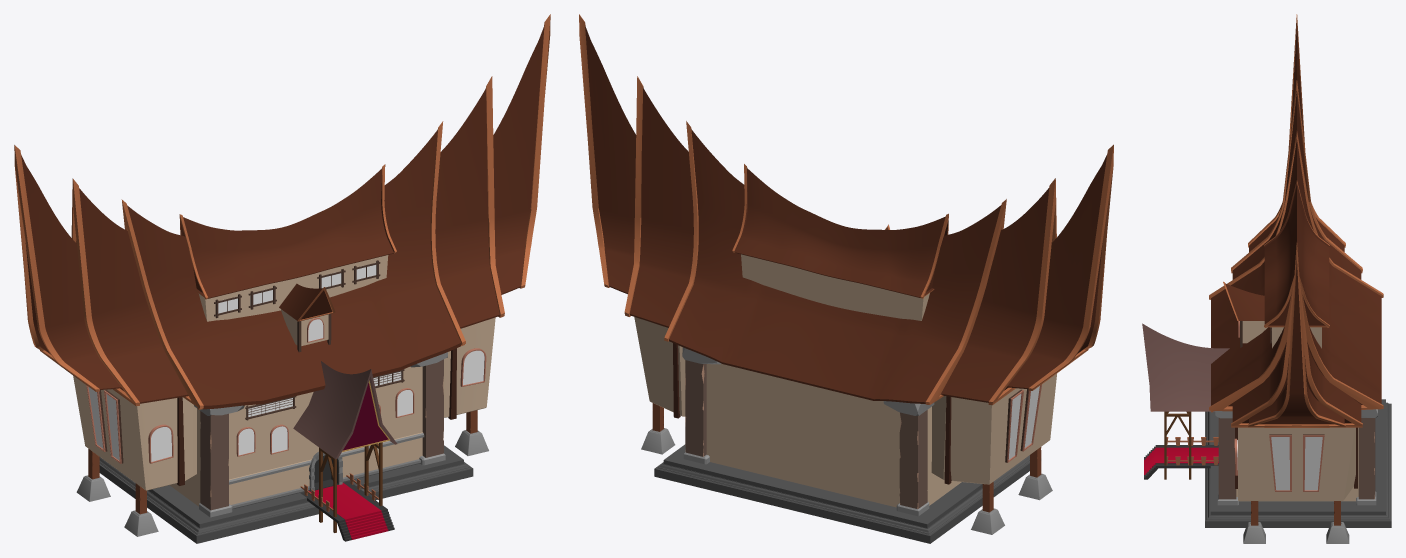
File: gadang.glb
3 views of the same model, side by side, from view 1: azimuth 30°, elevation 25°; view 2: azimuth 150°, elevation 25°; view 3: azimuth 270°, elevation 25° (orthographic). The views are drawn at different scales.
Parts seen in each view (by area): view 1: Cube.007_5, Cube.008_6, Cube.021_22, Cube.009_8, Cube_0, Cube.010_9, Cube.031_32, Cube.004_3, Cube.014_13, Cube.005_7, Cube.029_44, Cube.028_30 (+14 smaller); view 2: Cube.007_5, Cube.008_6, Cube_0, Cube.021_22, Cube.009_8, Cube.010_9, Cube.031_32, Cube.005_7, Cube.004_3, Cube.028_30, Cube.044_43, Cube.030_31 (+3 smaller); view 3: Cube.007_5, Cube.031_32, Cube.008_6, Cube.010_9, Cube.009_8, Cube.021_22, Cube.014_13, Cube.004_3, Cube.044_43, Cube.029_44, Cube.012_11, Cube.028_30 (+8 smaller).
Part boxes in pixels (left/top/right/bottom): Cube.007_5: left=121, top=121, right=465, bottom=409; Cube.008_6: left=71, top=76, right=504, bottom=406; Cube.021_22: left=14, top=14, right=550, bottom=391; Cube.009_8: left=179, top=164, right=396, bottom=299; Cube_0: left=170, top=366, right=424, bottom=509; Cube.010_9: left=73, top=317, right=495, bottom=490; Cube.031_32: left=99, top=445, right=473, bottom=543; Cube.004_3: left=200, top=359, right=443, bottom=510; Cube.014_13: left=293, top=361, right=397, bottom=459; Cube.005_7: left=198, top=255, right=388, bottom=321; Cube.029_44: left=309, top=483, right=388, bottom=539; Cube.028_30: left=76, top=430, right=488, bottom=536; Cube.007_5: left=664, top=121, right=1006, bottom=404; Cube.008_6: left=624, top=76, right=1056, bottom=405; Cube_0: left=706, top=363, right=961, bottom=507; Cube.021_22: left=579, top=14, right=1113, bottom=390; Cube.009_8: left=732, top=164, right=948, bottom=298; Cube.010_9: left=634, top=317, right=1056, bottom=484; Cube.031_32: left=654, top=444, right=1029, bottom=543; Cube.005_7: left=741, top=254, right=929, bottom=320; Cube.004_3: left=685, top=360, right=927, bottom=508; Cube.028_30: left=641, top=428, right=1052, bottom=534; Cube.044_43: left=1005, top=386, right=1039, bottom=462; Cube.030_31: left=673, top=343, right=951, bottom=484; Cube.007_5: left=1209, top=130, right=1383, bottom=412; Cube.031_32: left=1205, top=399, right=1391, bottom=527; Cube.008_6: left=1231, top=80, right=1362, bottom=427; Cube.010_9: left=1238, top=427, right=1355, bottom=500; Cube.009_8: left=1264, top=180, right=1329, bottom=327; Cube.021_22: left=1248, top=14, right=1345, bottom=427; Cube.014_13: left=1142, top=323, right=1229, bottom=411; Cube.004_3: left=1218, top=418, right=1375, bottom=499; Cube.044_43: left=1269, top=434, right=1324, bottom=490; Cube.029_44: left=1144, top=447, right=1218, bottom=474; Cube.012_11: left=1223, top=281, right=1264, bottom=320; Cube.028_30: left=1243, top=522, right=1349, bottom=543.
Bounding box in the file's own units: 45.32 × 31.68 × 20.99.
Materials: 27 (1 with a texture image).
